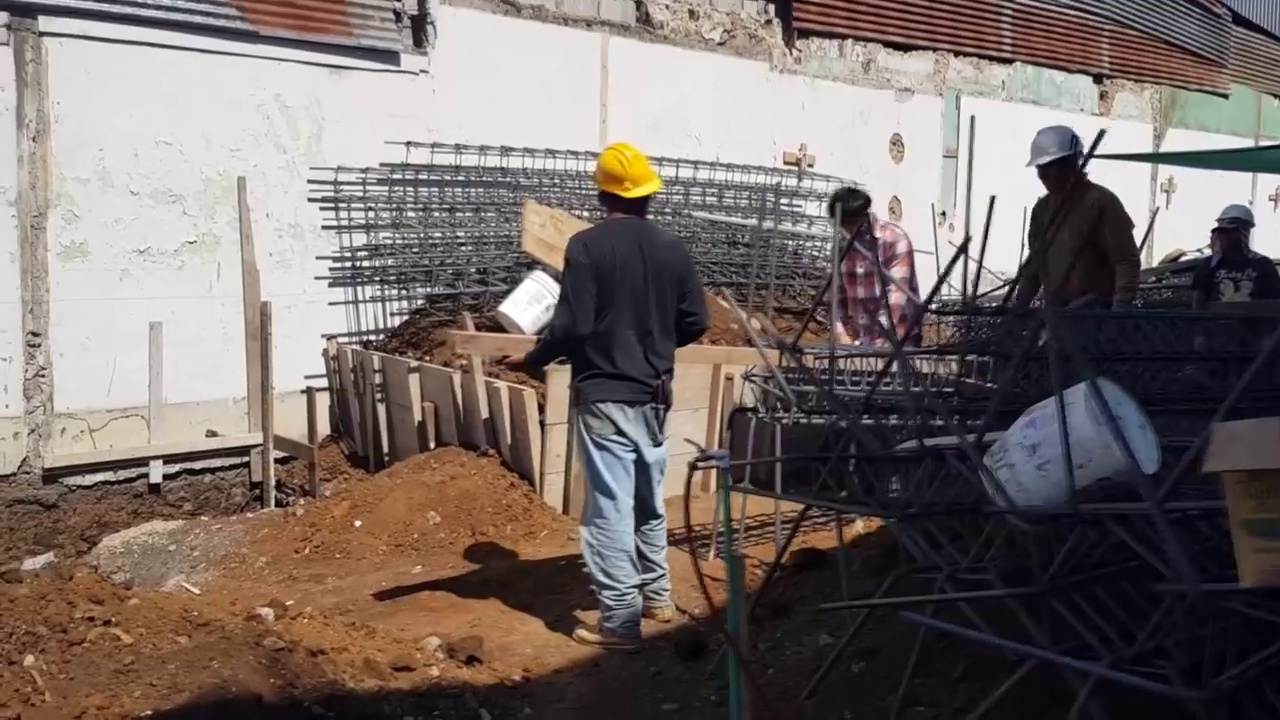helmet: (594, 143, 666, 201), (1029, 120, 1083, 166), (1214, 198, 1260, 230)
helmet-off: (827, 185, 874, 244)
helmet-on: (588, 131, 672, 227), (1028, 123, 1099, 196), (1213, 203, 1260, 259)
person: (481, 116, 712, 652), (1013, 122, 1145, 338), (820, 185, 930, 367), (1194, 185, 1275, 337)
